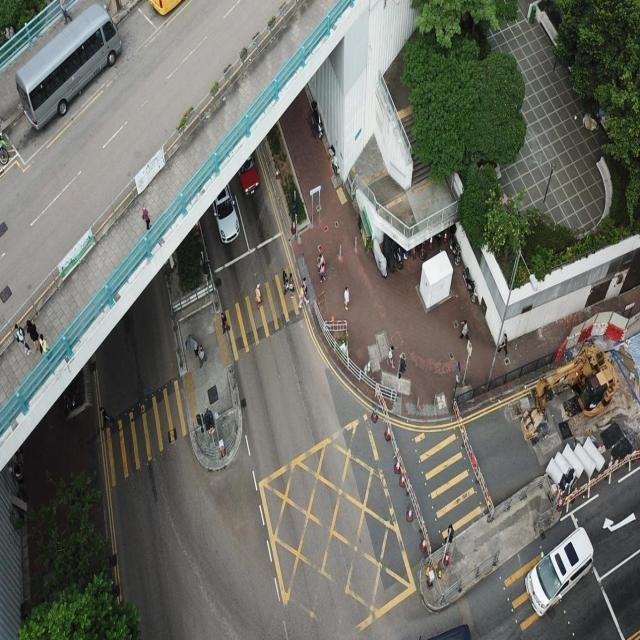p3rson: (14, 321, 30, 353), (26, 317, 40, 352), (55, 0, 72, 24), (185, 332, 199, 360), (100, 405, 114, 430), (141, 200, 151, 231), (40, 332, 51, 359), (297, 284, 309, 308), (496, 332, 508, 354), (198, 343, 206, 368), (459, 319, 468, 341), (255, 282, 262, 310), (386, 346, 395, 366), (221, 312, 229, 334), (288, 272, 295, 297), (283, 272, 289, 296), (343, 285, 349, 309), (283, 269, 289, 291), (319, 251, 325, 271), (319, 261, 325, 281), (301, 276, 307, 294)
